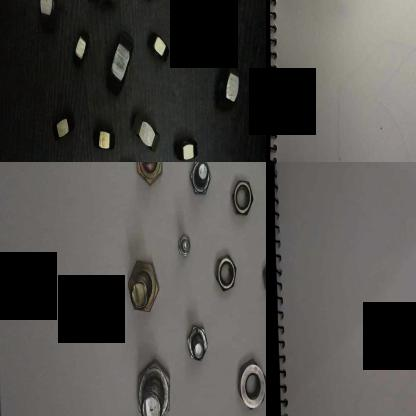Bolts: (121, 250, 160, 324), (129, 356, 173, 416), (181, 319, 209, 368), (185, 162, 214, 203), (133, 162, 167, 194), (172, 228, 194, 257)
NUTS: (102, 25, 134, 99), (232, 353, 266, 416), (126, 104, 162, 152), (224, 172, 258, 222), (216, 56, 246, 110), (182, 0, 206, 59), (212, 246, 240, 292), (144, 24, 172, 68), (34, 0, 63, 40), (50, 104, 74, 146), (69, 26, 91, 66), (91, 127, 119, 154), (171, 134, 197, 162), (79, 0, 121, 11), (258, 253, 266, 299)
